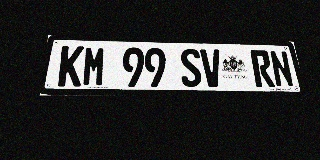9: (122, 47, 144, 87), (145, 48, 167, 87)
K: (57, 46, 84, 86)
M: (81, 46, 106, 87)
N: (269, 51, 295, 87)
R: (250, 50, 275, 87)
S: (180, 48, 203, 87)
V: (200, 49, 224, 87)
